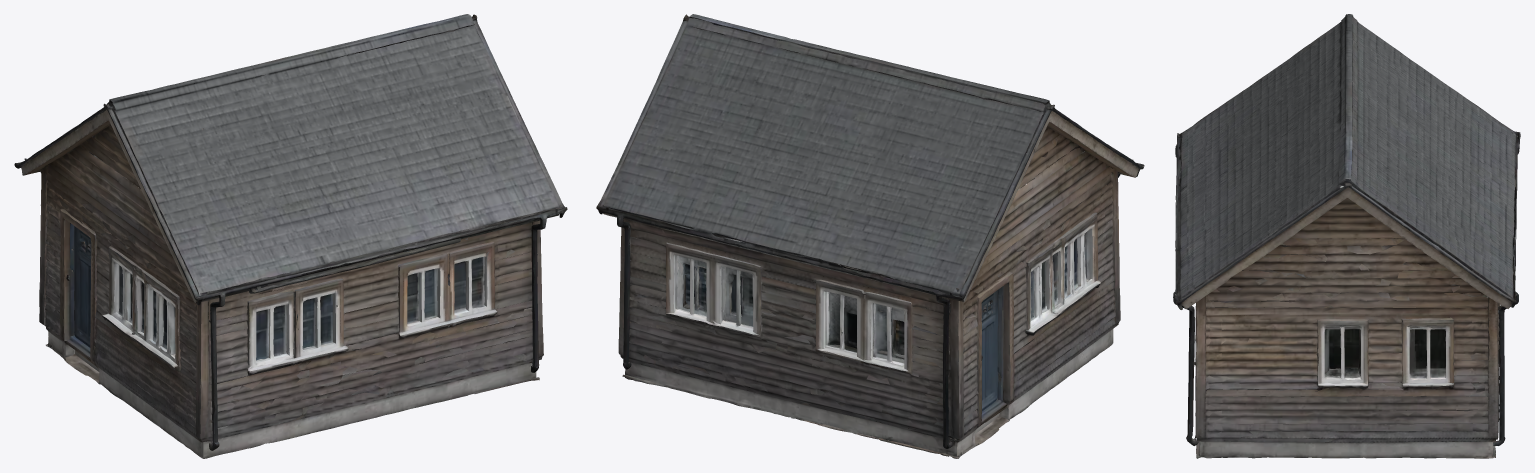
File: house-trellis.glb
3 renders of one model, left to right at view 1: azimuth 30°, elevation 25°; view 2: azimuth 150°, elevation 25°; view 3: azimuth 270°, elevation 25°, orthographic. The views are drawn at different scales.
Visible parts, largest first — view 1: roof, front_windows, main_walls, left_wall, foundation_base, left_window, front_gutter, front_door; view 2: roof, back_windows, main_walls, left_wall, foundation_base, left_window, back_gutter, front_door; view 3: roof, main_walls, right_windows, foundation_base, front_gutter, back_gutter.
Part boxes in pixels (x1=…): roof: x1=22, y1=14, x2=560, y2=302; front_windows: x1=231, y1=257, x2=499, y2=400; main_walls: x1=108, y1=165, x2=543, y2=427; left_wall: x1=39, y1=182, x2=250, y2=439; foundation_base: x1=39, y1=293, x2=542, y2=458; left_window: x1=90, y1=249, x2=190, y2=398; front_gutter: x1=191, y1=198, x2=567, y2=446; front_door: x1=48, y1=205, x2=91, y2=357; roof: x1=602, y1=14, x2=1138, y2=299; back_windows: x1=662, y1=256, x2=928, y2=400; main_walls: x1=618, y1=167, x2=1049, y2=425; left_wall: x1=909, y1=182, x2=1120, y2=438; foundation_base: x1=620, y1=295, x2=1118, y2=458; left_window: x1=1009, y1=221, x2=1106, y2=370; back_gutter: x1=596, y1=197, x2=969, y2=405; front_door: x1=964, y1=280, x2=1010, y2=431; roof: x1=1188, y1=14, x2=1505, y2=307; main_walls: x1=1188, y1=302, x2=1505, y2=438; right_windows: x1=1221, y1=329, x2=1472, y2=409; foundation_base: x1=1188, y1=400, x2=1505, y2=458; front_gutter: x1=1173, y1=129, x2=1187, y2=441; back_gutter: x1=1506, y1=126, x2=1520, y2=308.
Bounding box in the file's own units: 0.4 × 0.3156 × 0.3472.
1 material, 1 textured.
